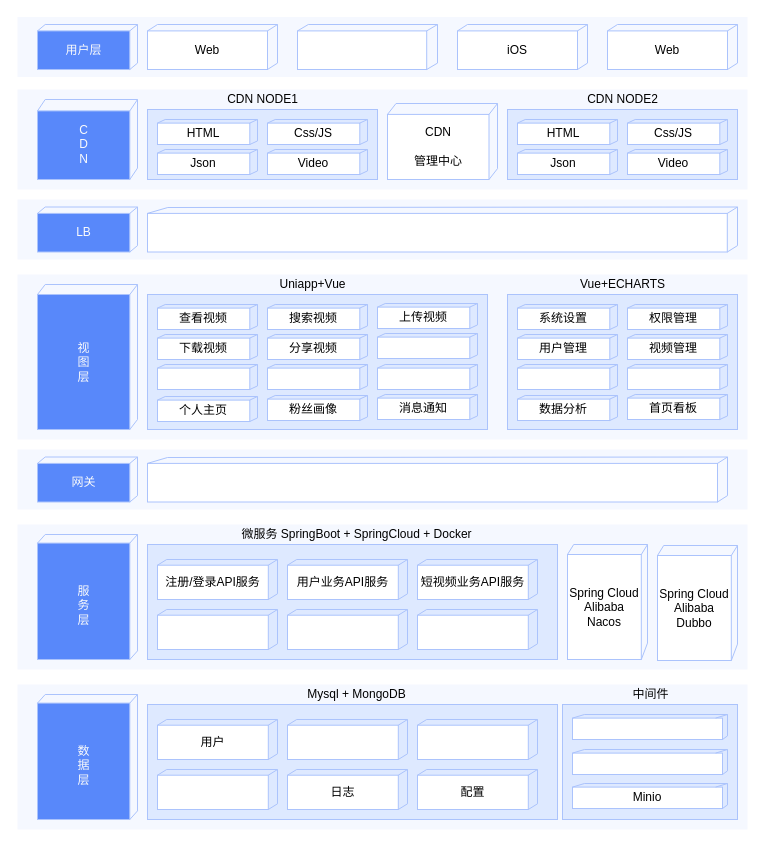
Image size: 764x847. Some labels were removed from this diagram. Each missing label, with the centre of its shape:
"Android" belongs at point 361,50.
"Nginx+LVS" belongs at point 436,232.
"RabbitMQ" belongs at point 647,763.
"Redis" belongs at point 647,728.
"Spring Cloud Gateway" belongs at point 432,482.
"关注博主" belongs at point 423,378.
"消息业务API服务" belongs at point 472,632.
"点赞视频" belongs at point 423,347.
"粉丝" belongs at point 212,792.
"粉丝业务API服务" belongs at point 212,632.
"粉丝管理" belongs at point 563,378.
"视频" belongs at point 342,742.
"评论" belongs at point 472,742.
"评论业务API服务" belongs at point 342,632.
"评论点赞" belongs at point 313,378.
"评论管理" belongs at point 673,378.
"评论视频" belongs at point 203,378.
